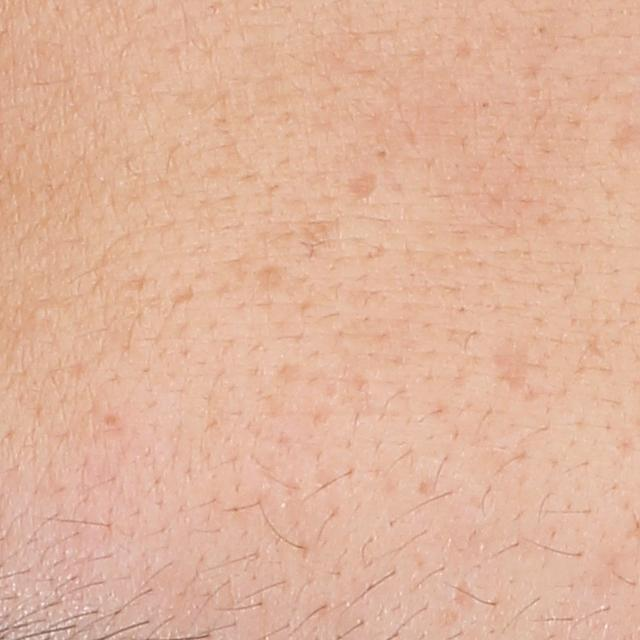atrophic_scar: (488, 328, 536, 393), (340, 169, 379, 212), (252, 261, 291, 301)
comedo: (24, 306, 50, 326), (374, 143, 388, 161)
